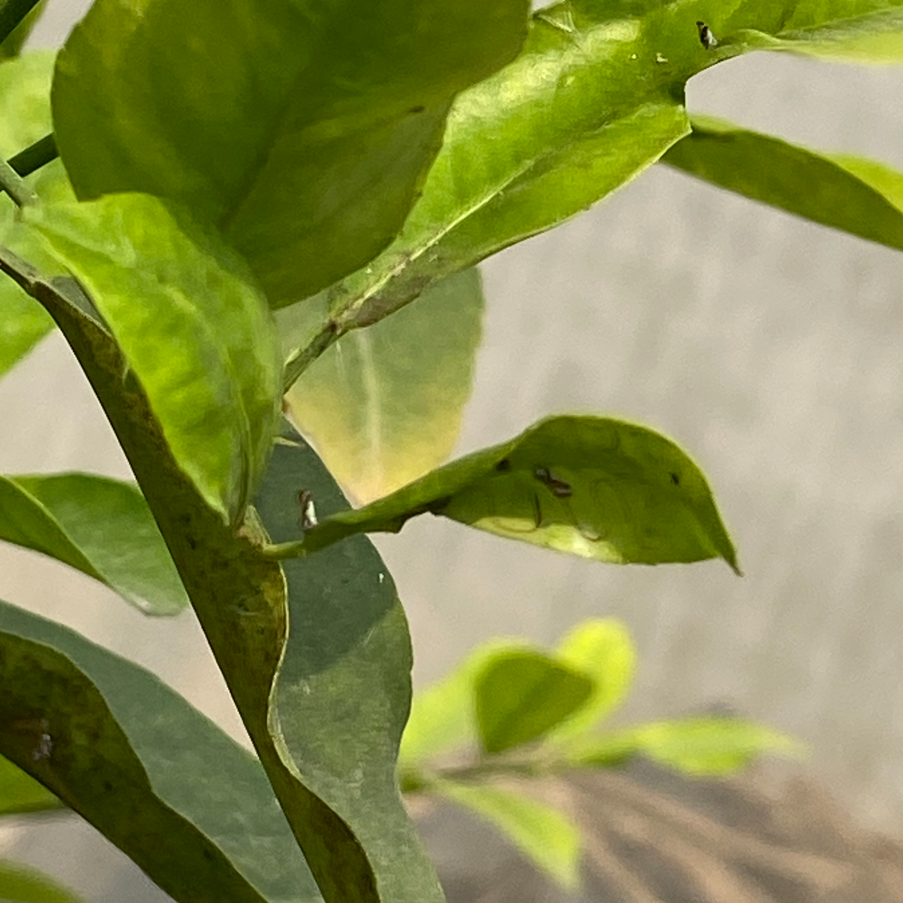cd: (295, 485, 317, 530)
